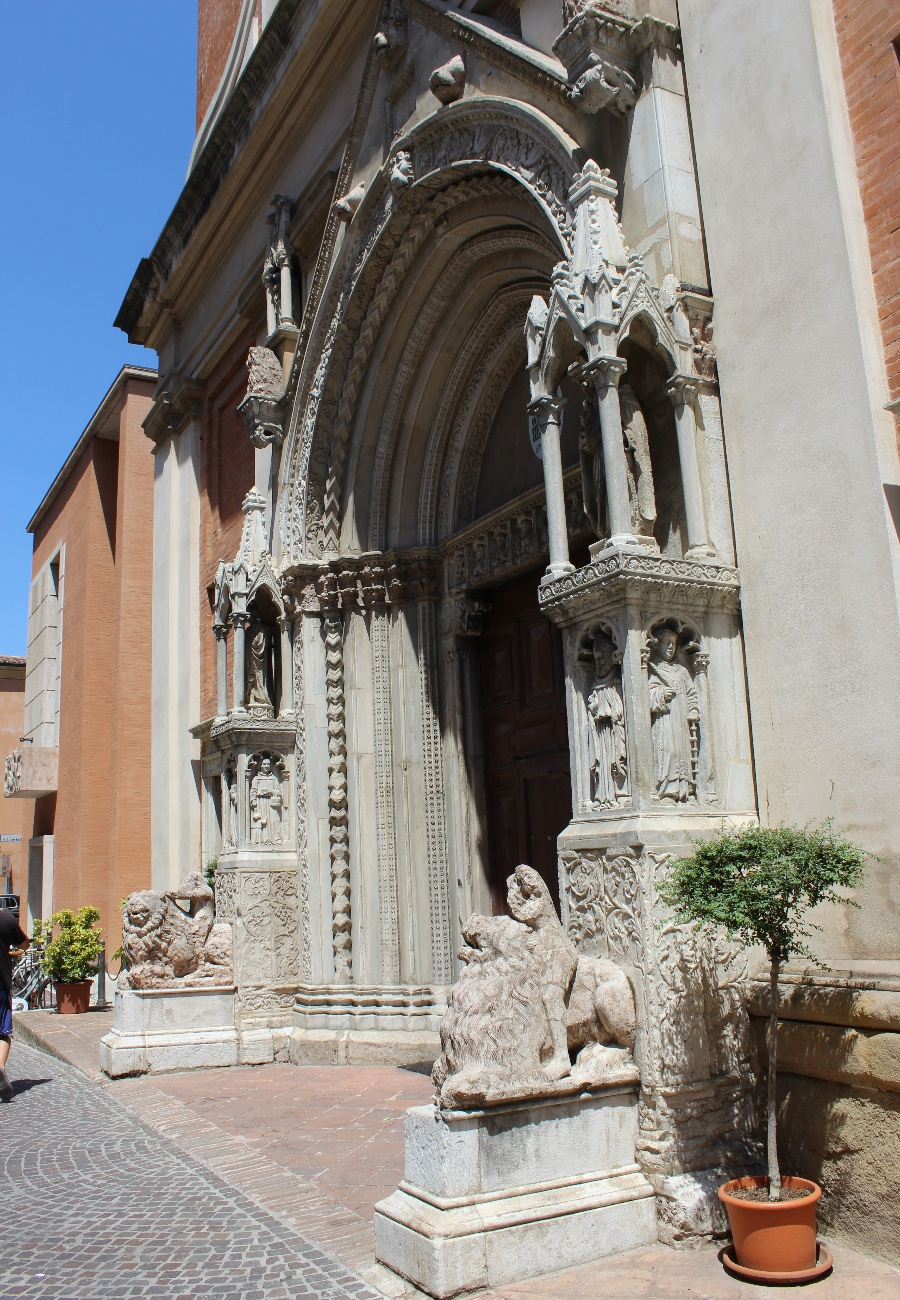Chiesa San Agostino: (94, 1, 900, 1288)
